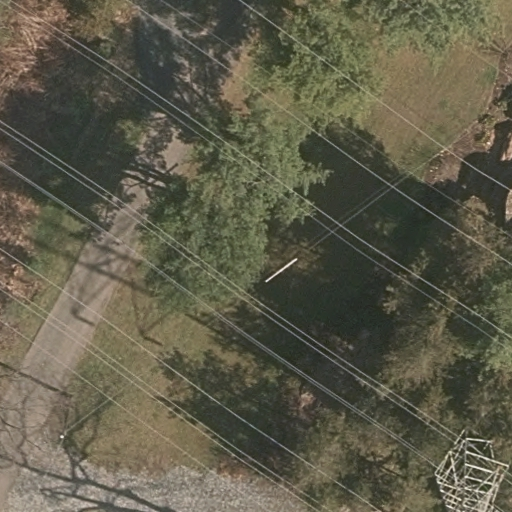TT: (426, 419, 512, 512)
